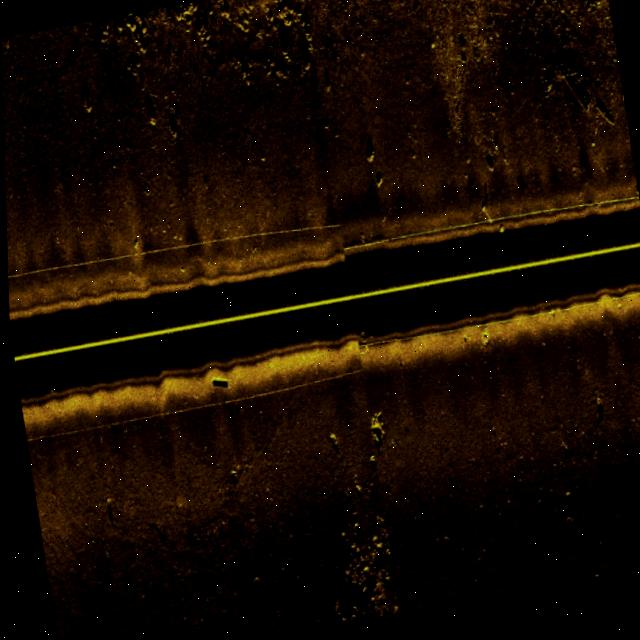mine: (206, 374, 228, 395), (100, 498, 111, 527)
